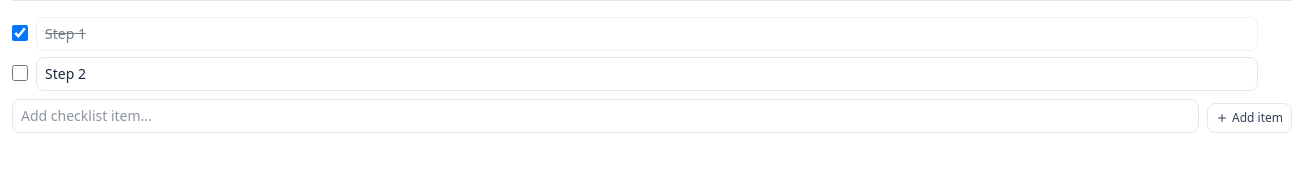
Test case: TaskChecklistsSection › adds an item when Add item is clicked
The image size is (1304, 190).
Expected: the 1st field showing "Step 1" is shown, [36,17,1258,51]
Step 1. Type "Step 3" into the field with placeholder "Add checklist item…" → [606, 116], box [12,99,1199,133]
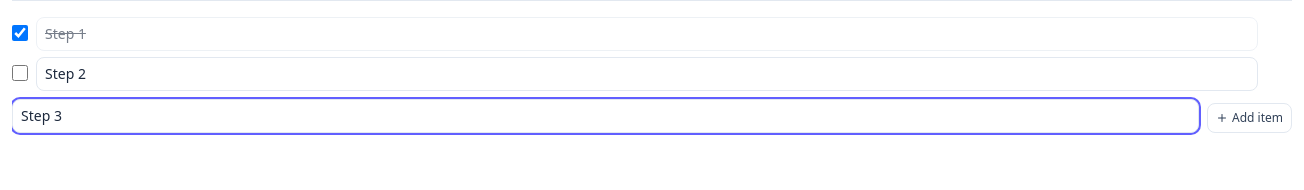
Step 2. Click the button "Add item" → [1250, 118], box [1207,103,1292,133]
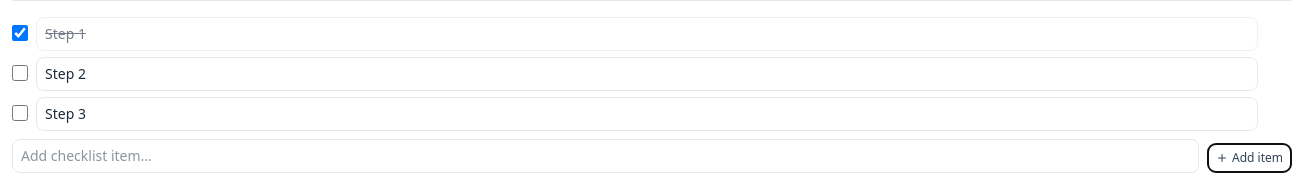
Expected: the 3rd field showing "Step 3" is shown, [36,97,1258,131]
